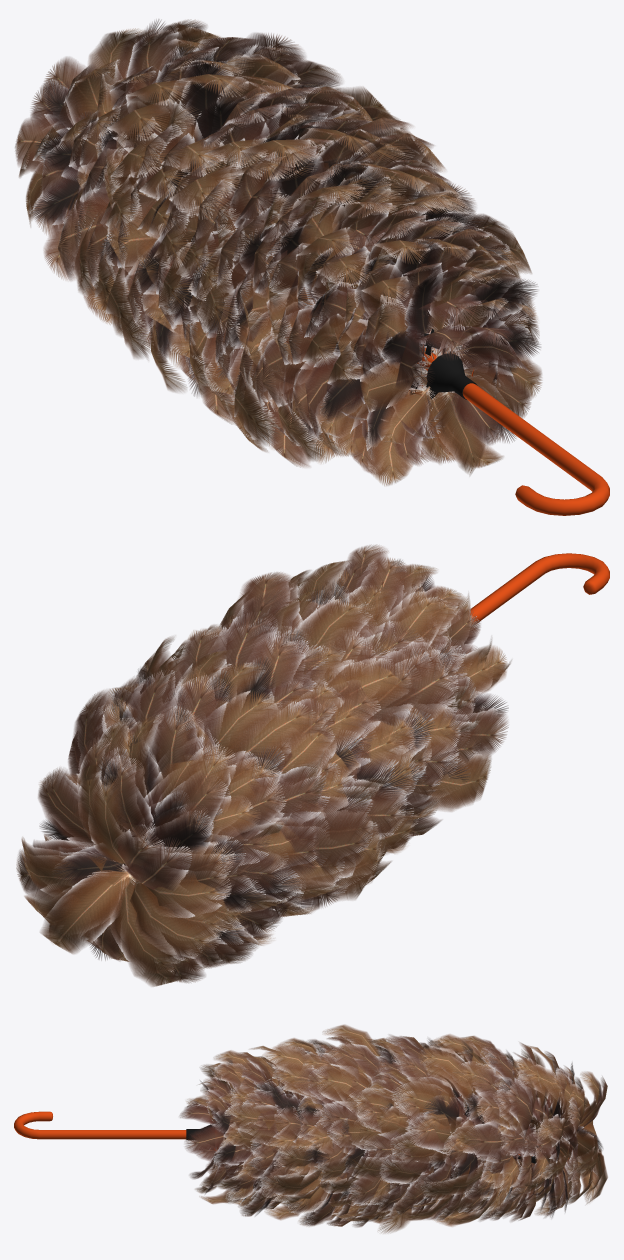
3 renders of one model, top to bottom at view 1: azimuth 30°, elevation 25°; view 2: azimuth 150°, elevation 25°; view 3: azimuth 270°, elevation 25°, orthographic. The views are drawn at different scales.
Visible parts, largest first — view 1: PlasticPart_800, Feather_004.043_310, Feather_006.013_546, Feather_004.044_311, Feather_004.045_312, Feather_004.116_383, Feather_006.002_535, Feather_005.132_532, Feather_005.124_524, Feather_006.052_585, Feather_006.049_582, Feather_006.109_642 (+140 smaller); view 2: Feather_005.020_420, Feather_005.013_413, Feather_005.132_532, Feather_006.013_546, Feather_005.004_404, PlasticPart_800, Feather_005.012_412, Feather_005.127_527, Feather_006.112_645, Feather_005.034_434, Feather_006.002_535, Feather_006.001_534 (+111 smaller); view 3: PlasticPart_800, Feather_005.050_450, Feather_005.056_456, Feather_007.033_699, Feather_007.039_705, Feather_005.065_465, Feather_005.053_453, Feather_005.057_457, Feather_005.048_448, Feather_005.058_458, Feather_005.064_464, Feather_005.039_439 (+125 smaller).
Boxes of the visible parts, bbox=[...] form: PlasticPart_800: bbox=[418, 347, 609, 515]; Feather_004.043_310: bbox=[433, 391, 485, 475]; Feather_006.013_546: bbox=[58, 188, 109, 279]; Feather_004.044_311: bbox=[378, 386, 432, 444]; Feather_004.045_312: bbox=[360, 360, 427, 412]; Feather_004.116_383: bbox=[107, 201, 156, 273]; Feather_006.002_535: bbox=[126, 29, 177, 100]; Feather_005.132_532: bbox=[108, 99, 174, 151]; Feather_005.124_524: bbox=[169, 165, 235, 218]; Feather_006.052_585: bbox=[311, 117, 412, 175]; Feather_006.049_582: bbox=[350, 133, 433, 167]; Feather_006.109_642: bbox=[252, 323, 318, 407]; Feather_005.020_420: bbox=[40, 868, 132, 953]; Feather_005.013_413: bbox=[130, 880, 221, 957]; Feather_005.132_532: bbox=[228, 701, 317, 767]; Feather_006.013_546: bbox=[303, 813, 372, 874]; Feather_005.004_404: bbox=[209, 691, 280, 761]; PlasticPart_800: bbox=[147, 553, 609, 847]; Feather_005.012_412: bbox=[111, 876, 182, 973]; Feather_005.127_527: bbox=[295, 599, 373, 659]; Feather_006.112_645: bbox=[395, 651, 457, 720]; Feather_005.034_434: bbox=[89, 775, 129, 863]; Feather_006.002_535: bbox=[148, 707, 202, 776]; Feather_006.001_534: bbox=[104, 756, 154, 842]; PlasticPart_800: bbox=[14, 1111, 214, 1145]; Feather_005.050_450: bbox=[308, 1065, 371, 1115]; Feather_005.056_456: bbox=[418, 1046, 468, 1112]; Feather_007.033_699: bbox=[464, 1123, 505, 1162]; Feather_007.039_705: bbox=[498, 1079, 533, 1134]; Feather_005.065_465: bbox=[393, 1082, 442, 1115]; Feather_005.053_453: bbox=[272, 1063, 321, 1104]; Feather_005.057_457: bbox=[392, 1077, 456, 1107]; Feather_005.048_448: bbox=[261, 1044, 310, 1070]; Feather_005.058_458: bbox=[225, 1103, 277, 1133]; Feather_005.064_464: bbox=[390, 1132, 448, 1162]; Feather_005.039_439: bbox=[452, 1061, 496, 1092].
Size of the model in its own units: 0.1551 by 0.1479 by 0.4144.
Materials: 1 (1 with a texture image).
